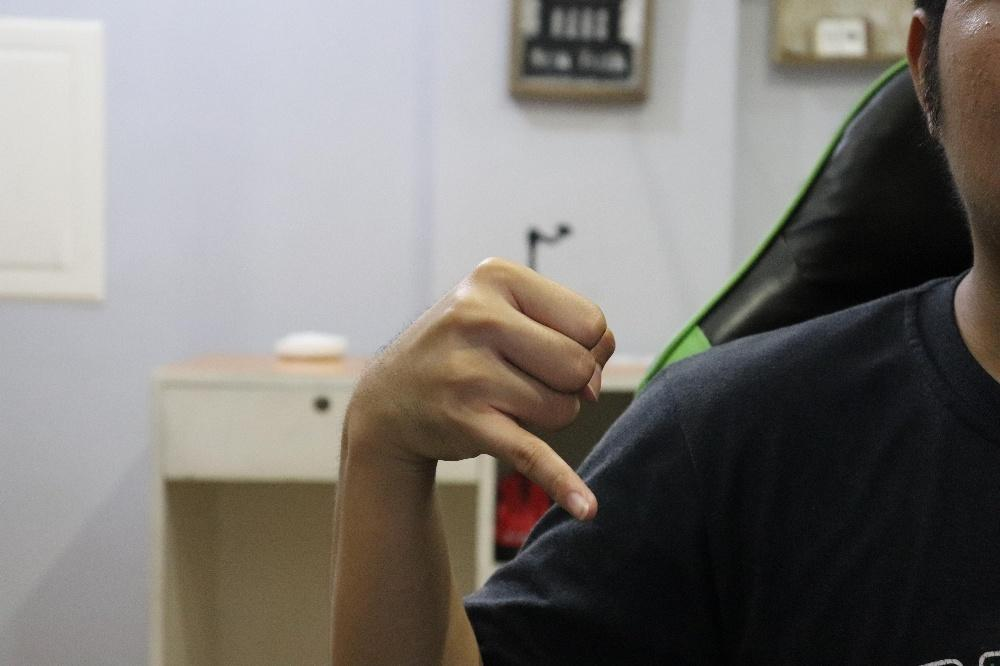j: (347, 253, 615, 522)
